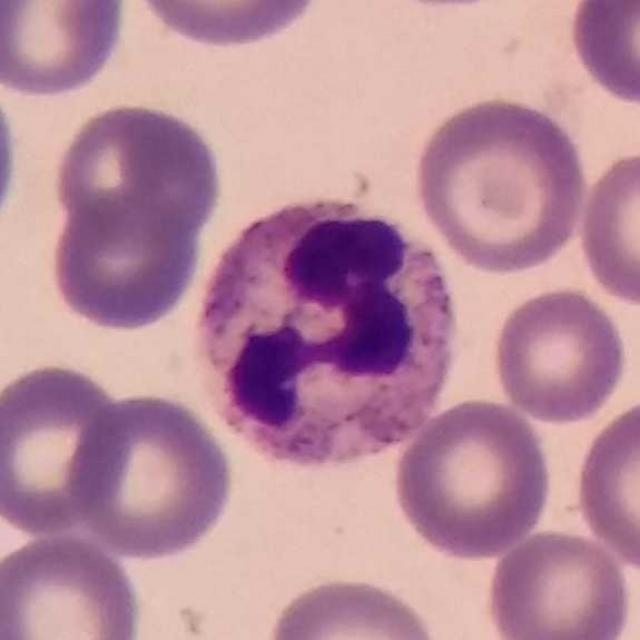Neutrophil: (182, 183, 472, 488)
RBC: (409, 91, 592, 277), (67, 389, 237, 563), (388, 394, 556, 563), (48, 98, 227, 245), (0, 358, 134, 539), (45, 191, 208, 335), (488, 283, 632, 426), (482, 526, 635, 640), (0, 528, 147, 640), (0, 0, 132, 100), (570, 392, 640, 576), (263, 571, 446, 640), (574, 144, 640, 310), (124, 0, 329, 52), (564, 0, 640, 109), (349, 0, 539, 14)
